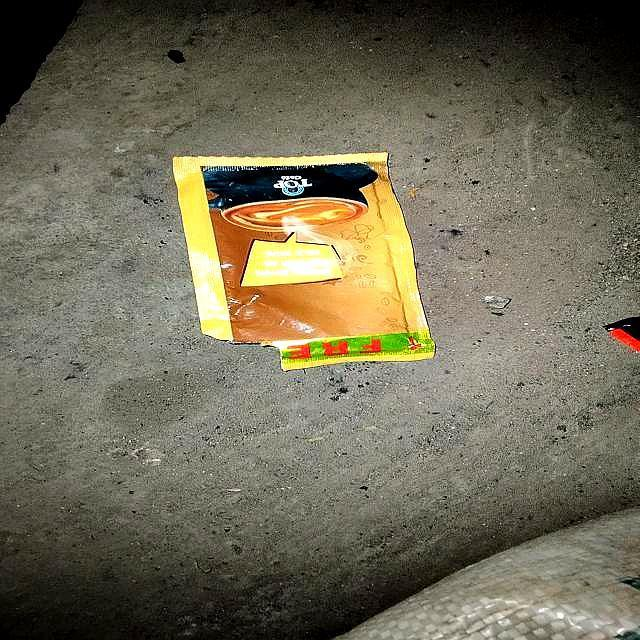Non-biodegradable: (171, 151, 437, 373)
